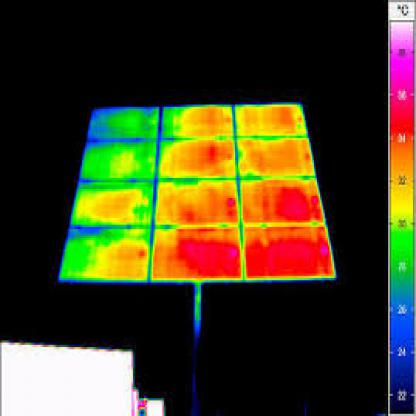Defects: (177, 240, 245, 274)
